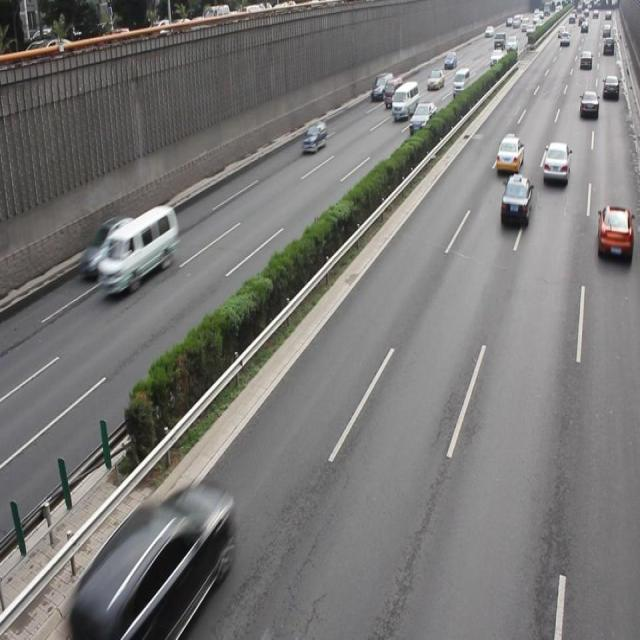car: (74, 483, 232, 640), (80, 214, 136, 275), (595, 202, 632, 264), (500, 174, 530, 224), (541, 141, 568, 185), (495, 135, 522, 174), (407, 102, 436, 136), (302, 122, 327, 153)
truck: (98, 203, 178, 290), (390, 80, 417, 119)
